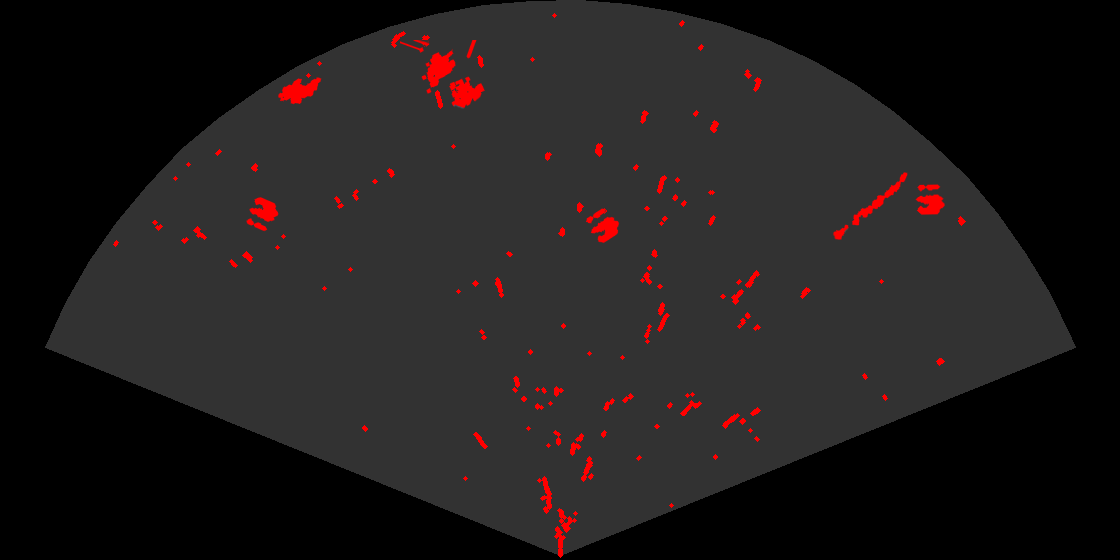AUV: (277, 76, 323, 106)
ball: (584, 207, 621, 245), (245, 196, 280, 233), (914, 183, 946, 216)
cage: (400, 40, 486, 109)
chain: (831, 171, 909, 241)
